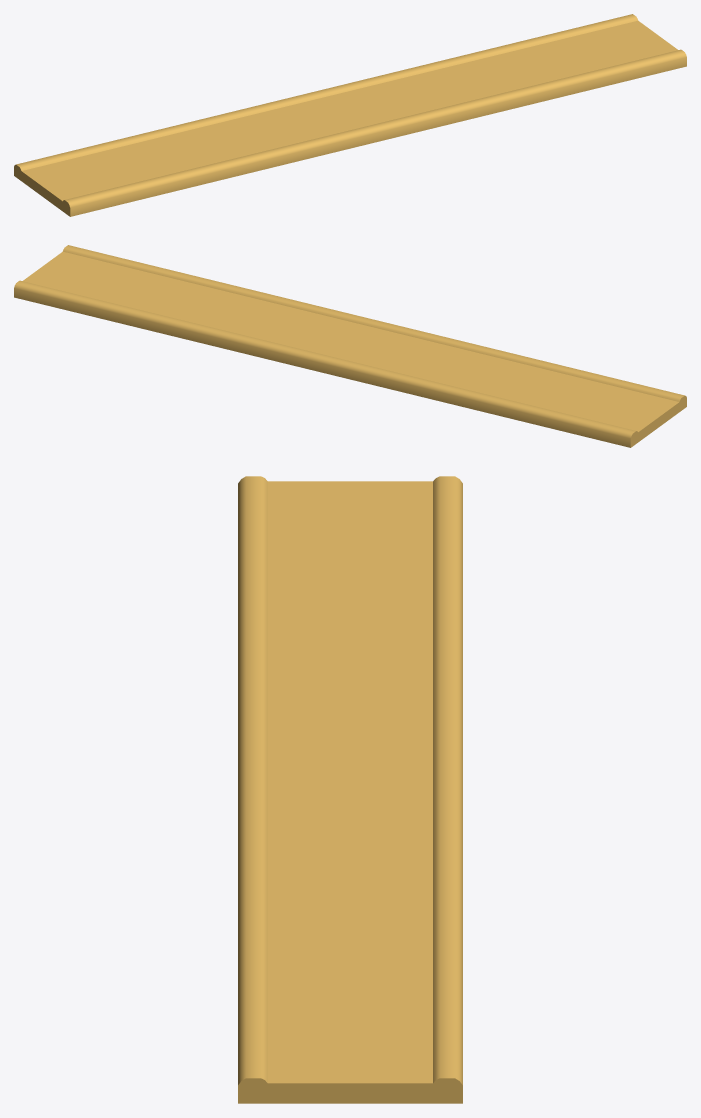
The model's file is SM_Rotating_Platform.gltf.
3 views of the same model, one above another, from view 1: azimuth 30°, elevation 25°; view 2: azimuth 150°, elevation 25°; view 3: azimuth 270°, elevation 25° (orthographic). The views are drawn at different scales.
Parts seen in each view (by area): view 1: SM_ROTATING_platform_convcol.002; view 2: SM_ROTATING_platform_convcol.002; view 3: SM_ROTATING_platform_convcol.002.
Part boxes in pixels (x1,y1,x2,y2): SM_ROTATING_platform_convcol.002: [14, 14, 686, 216]; SM_ROTATING_platform_convcol.002: [14, 245, 686, 447]; SM_ROTATING_platform_convcol.002: [238, 476, 462, 1103].
Size of the model in its own units: 9.5 by 0.1887 by 1.5.
